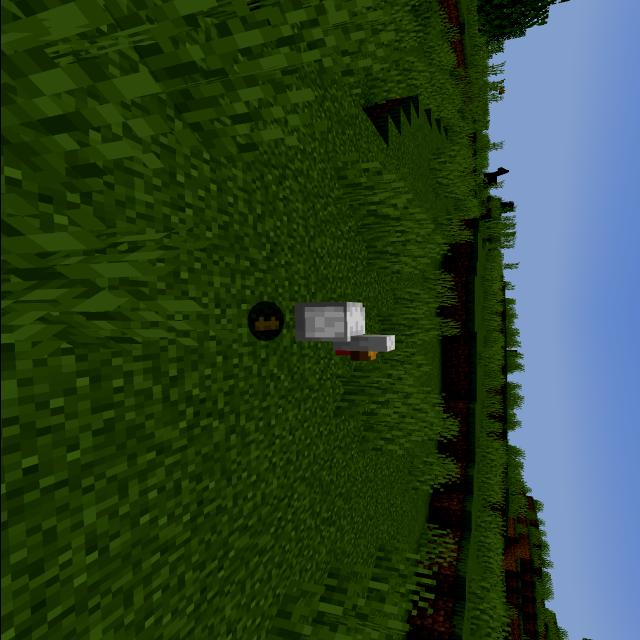chicken: (243, 295, 401, 363)
